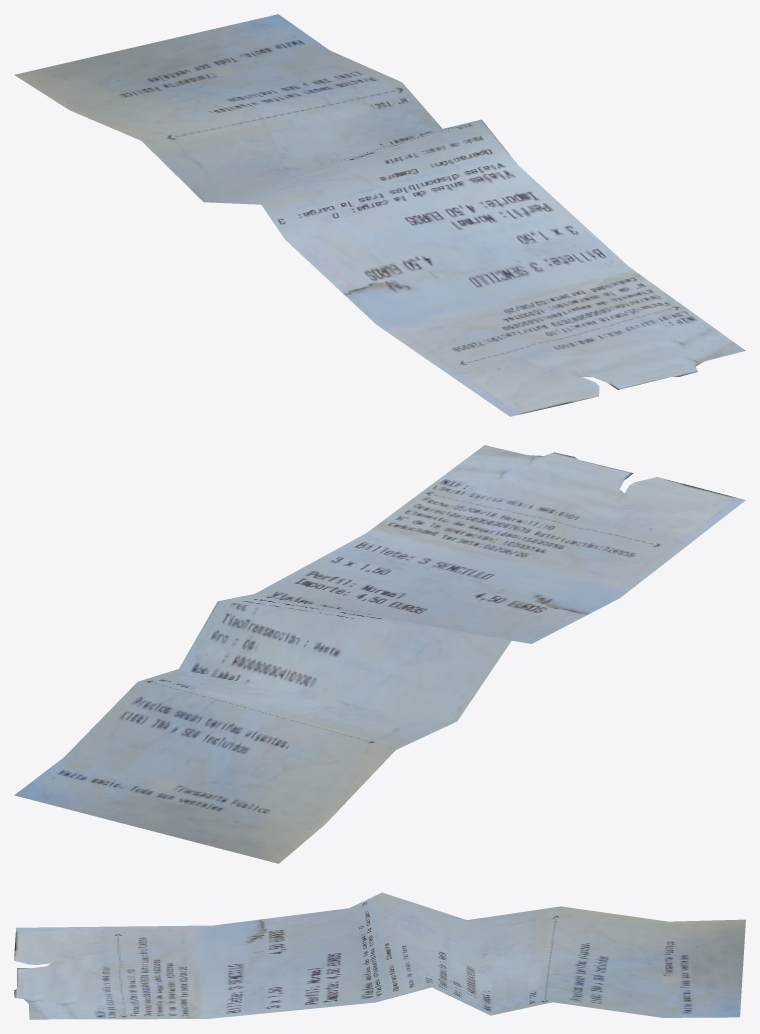
File: SM_Trash_Ticket_01h.fbx
3 views of the same model, one above another, from view 1: azimuth 30°, elevation 25°; view 2: azimuth 150°, elevation 25°; view 3: azimuth 270°, elevation 25° (orthographic). The views are drawn at different scales.
Visible parts, largest first — view 1: SM_Trash_Ticket_01h; view 2: SM_Trash_Ticket_01h; view 3: SM_Trash_Ticket_01h.
Boxes of the visible parts, box(x1,y1,x2,y2) form: SM_Trash_Ticket_01h: box(14, 14, 745, 416); SM_Trash_Ticket_01h: box(14, 445, 745, 863); SM_Trash_Ticket_01h: box(14, 892, 745, 1019).
Bounding box in the file's own units: 6.98 × 21.59 × 1.02.
Materials: 1 (1 with a texture image).
